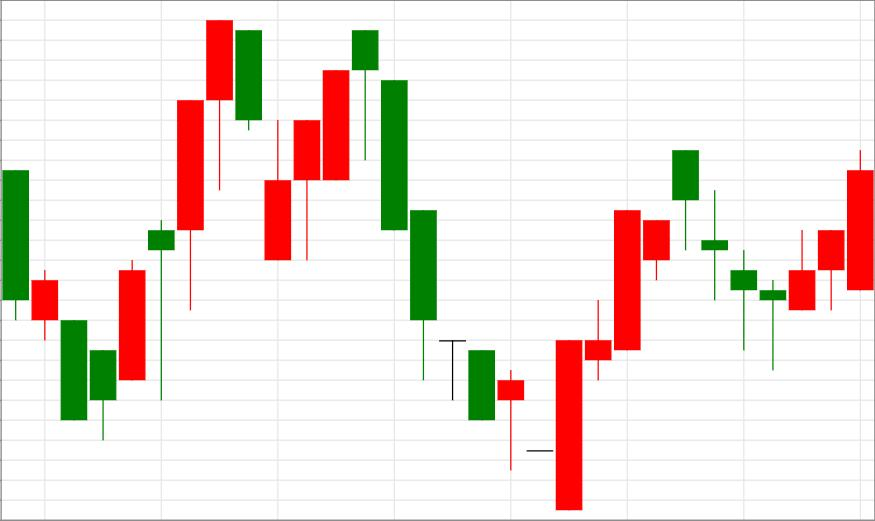hanging_man_fall: (264, 30, 378, 261)
